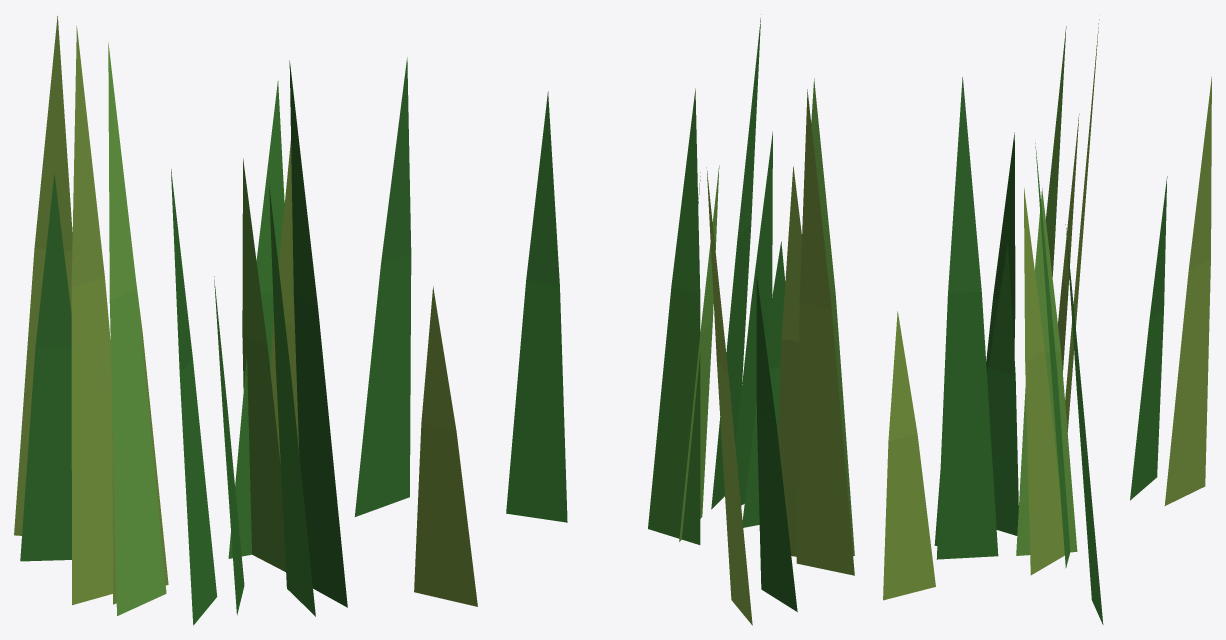
File: Grass.glb
3 views of the same model, side by side, from view 1: azimuth 30°, elevation 25°; view 2: azimuth 150°, elevation 25°; view 3: azimuth 270°, elevation 25° (orthographic). The views are drawn at different scales.
Visible parts, largest first — view 1: Grass; view 2: Grass; view 3: Grass.
Part boxes in pixels (<box>): Grass: <box>14,16,477,625</box>; Grass: <box>506,14,854,625</box>; Grass: <box>883,19,1211,624</box>.
Size of the model in its own units: 0.4039 by 0.5888 by 0.3713.
